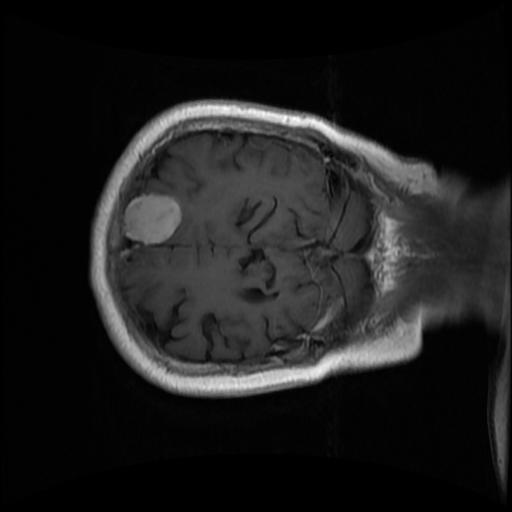meningioma: (122, 192, 181, 245)
